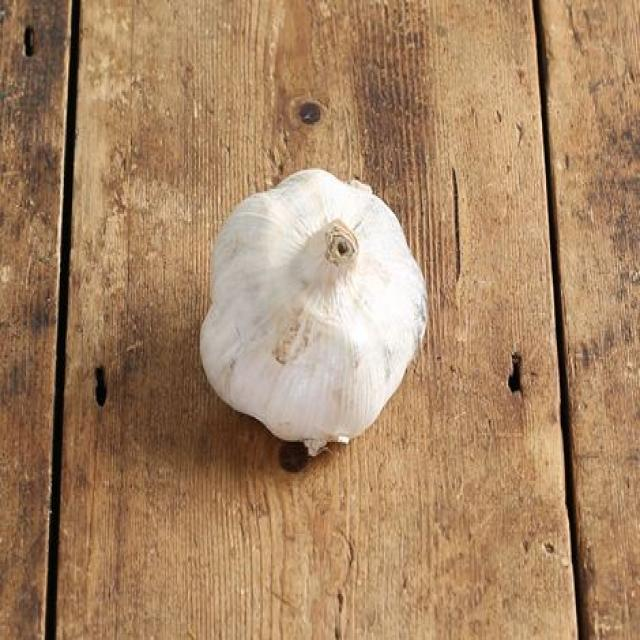garlic: (201, 167, 440, 459)
